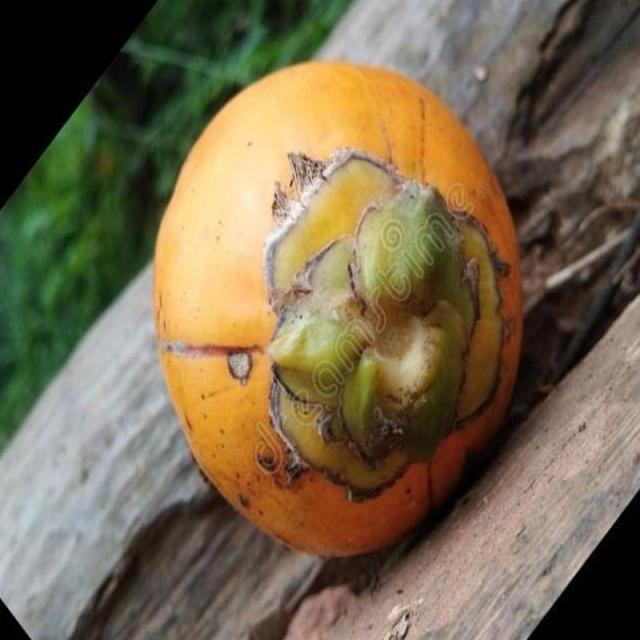good: (152, 61, 526, 564)
